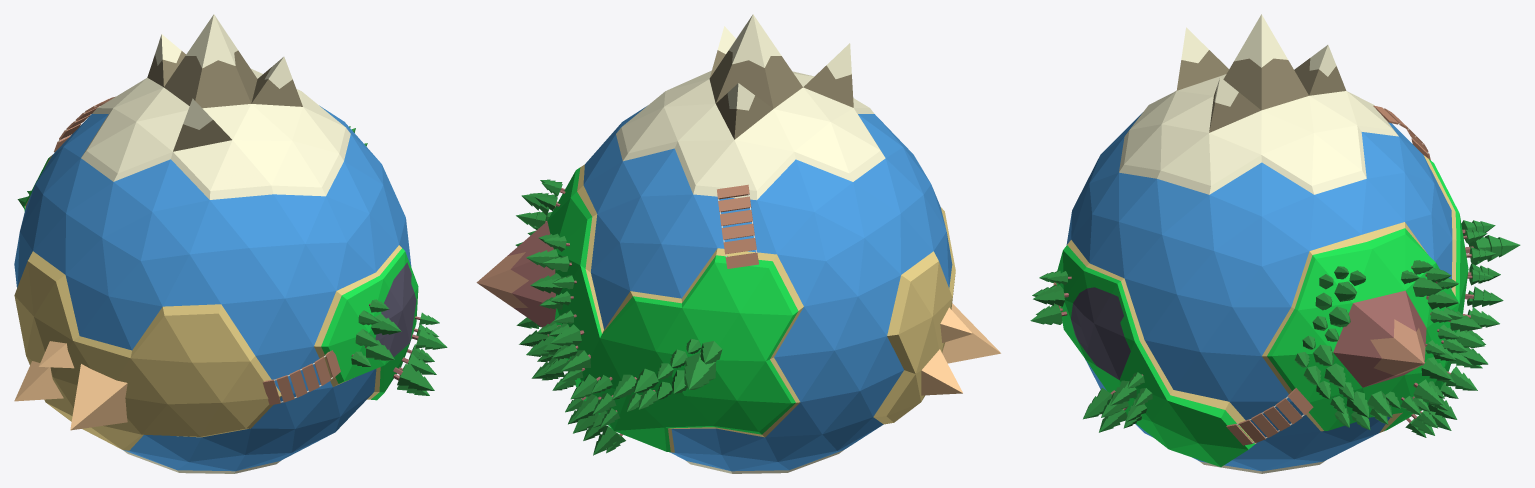
The picture shows the model from 3 angles, left to right: view 1: azimuth 30°, elevation 25°; view 2: azimuth 150°, elevation 25°; view 3: azimuth 270°, elevation 25°; orthographic projection.
Parts seen in each view (by area): view 1: Planet, Cone.003, Cube.002_Bridge_0, Cone.001, Cone.002, Cylinder.007, Cube_Bridge_0; view 2: Planet, Cube_Bridge_0, Cone.003, Cone.001, Cone.236, Cone.002; view 3: Planet, Cube.001_Bridge_0, Cone.236.
Boxes of the visible parts, bbox=[...] form: Planet: bbox=[14, 14, 418, 473]; Cone.003: bbox=[70, 364, 127, 430]; Cube.002_Bridge_0: bbox=[262, 350, 340, 405]; Cone.001: bbox=[14, 361, 63, 401]; Cone.002: bbox=[39, 341, 74, 368]; Cylinder.007: bbox=[393, 363, 434, 390]; Cube_Bridge_0: bbox=[54, 96, 115, 152]; Planet: bbox=[476, 14, 955, 473]; Cube_Bridge_0: bbox=[717, 184, 758, 268]; Cone.003: bbox=[942, 303, 1000, 363]; Cone.001: bbox=[921, 349, 962, 395]; Cone.236: bbox=[684, 352, 715, 389]; Cone.002: bbox=[940, 307, 972, 342]; Planet: bbox=[1056, 14, 1468, 473]; Cube.001_Bridge_0: bbox=[1226, 388, 1313, 445]; Cone.236: bbox=[1465, 235, 1520, 265].
Bounding box in the file's own units: 235 × 245 × 246.
